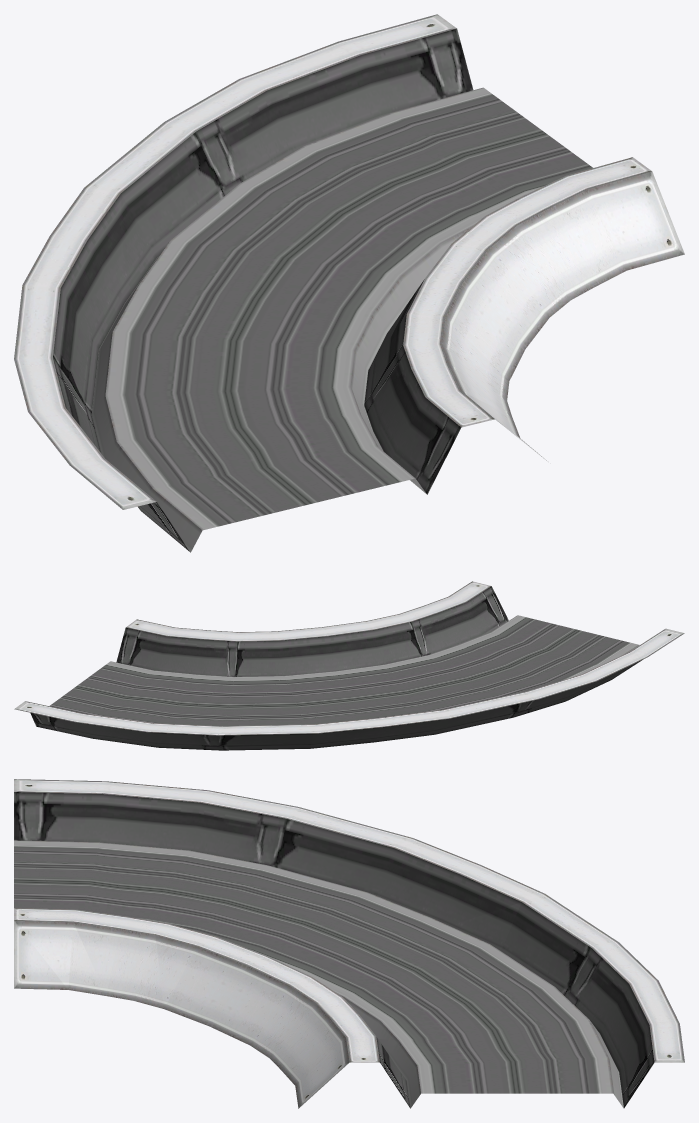
The model's file is Ground_Trim_6x4_Bend_S_01.FBX.
The picture shows the model from 3 angles, top to bottom: view 1: azimuth 30°, elevation 25°; view 2: azimuth 150°, elevation 25°; view 3: azimuth 270°, elevation 25°; orthographic projection. The views are drawn at different scales.
Parts seen in each view (by area): view 1: Ground_Trim_6x4_Bend_S_01; view 2: Ground_Trim_6x4_Bend_S_01; view 3: Ground_Trim_6x4_Bend_S_01.
Part boxes in pixels (bbox=[...]): Ground_Trim_6x4_Bend_S_01: bbox=[14, 14, 684, 552]; Ground_Trim_6x4_Bend_S_01: bbox=[14, 581, 684, 750]; Ground_Trim_6x4_Bend_S_01: bbox=[14, 779, 684, 1108].
Size of the model in its own units: 2 by 0.152 by 2.
